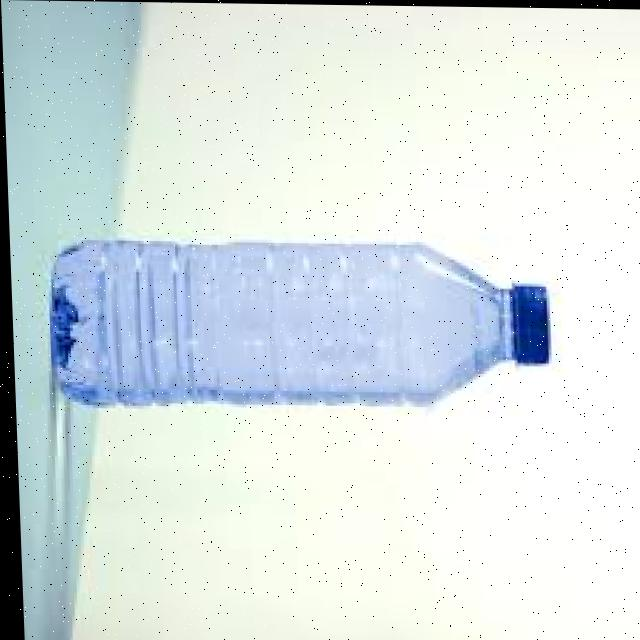bottle: (30, 220, 568, 431)
